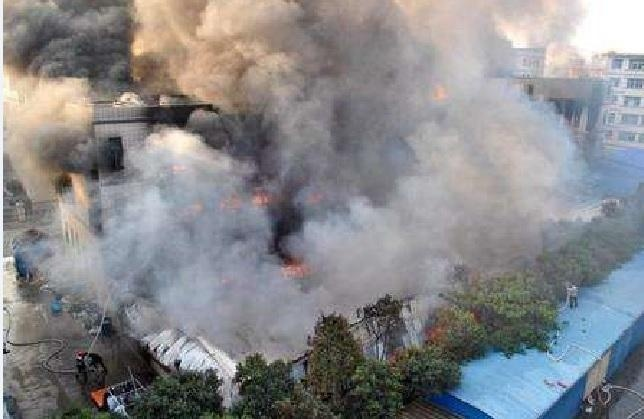fire: (274, 251, 316, 280)
